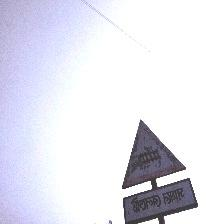Rail-crossing: (122, 120, 197, 223)
